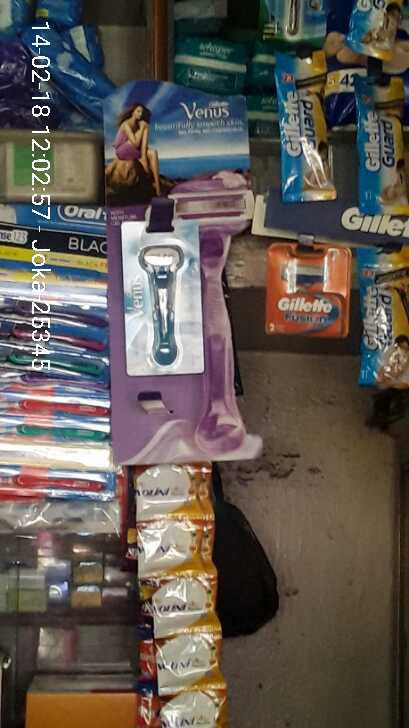beauty: (267, 50, 344, 207), (127, 228, 205, 373), (263, 234, 355, 341), (354, 254, 409, 387), (355, 90, 409, 211)
